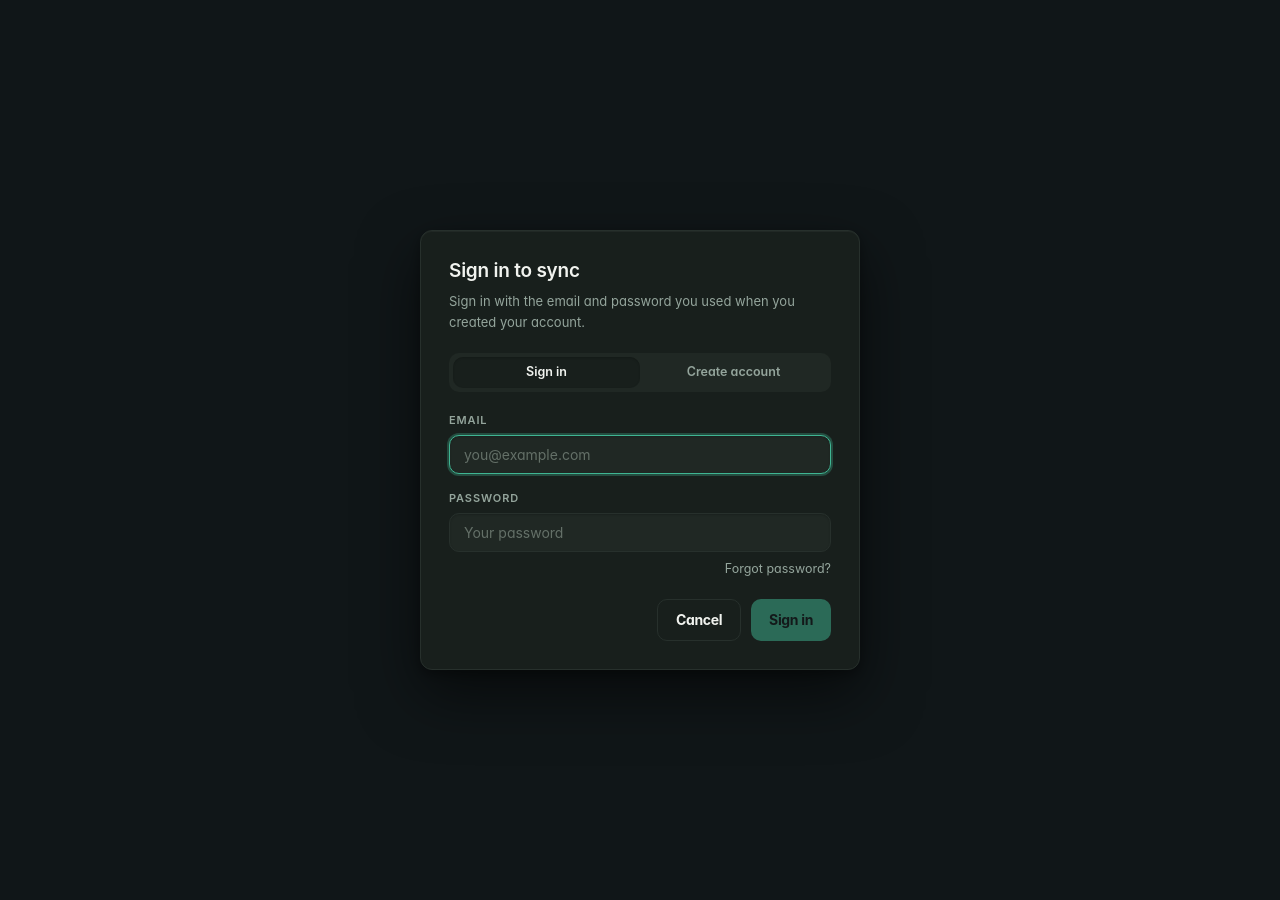
Test case: SignInDialog — client-side validation › blocks a short password with an inline error
The width and height of the screenshot is (1280, 900).
Type "a@b.co" into the field named "email" at (640, 454), box x1=449 y1=434 x2=831 y2=474
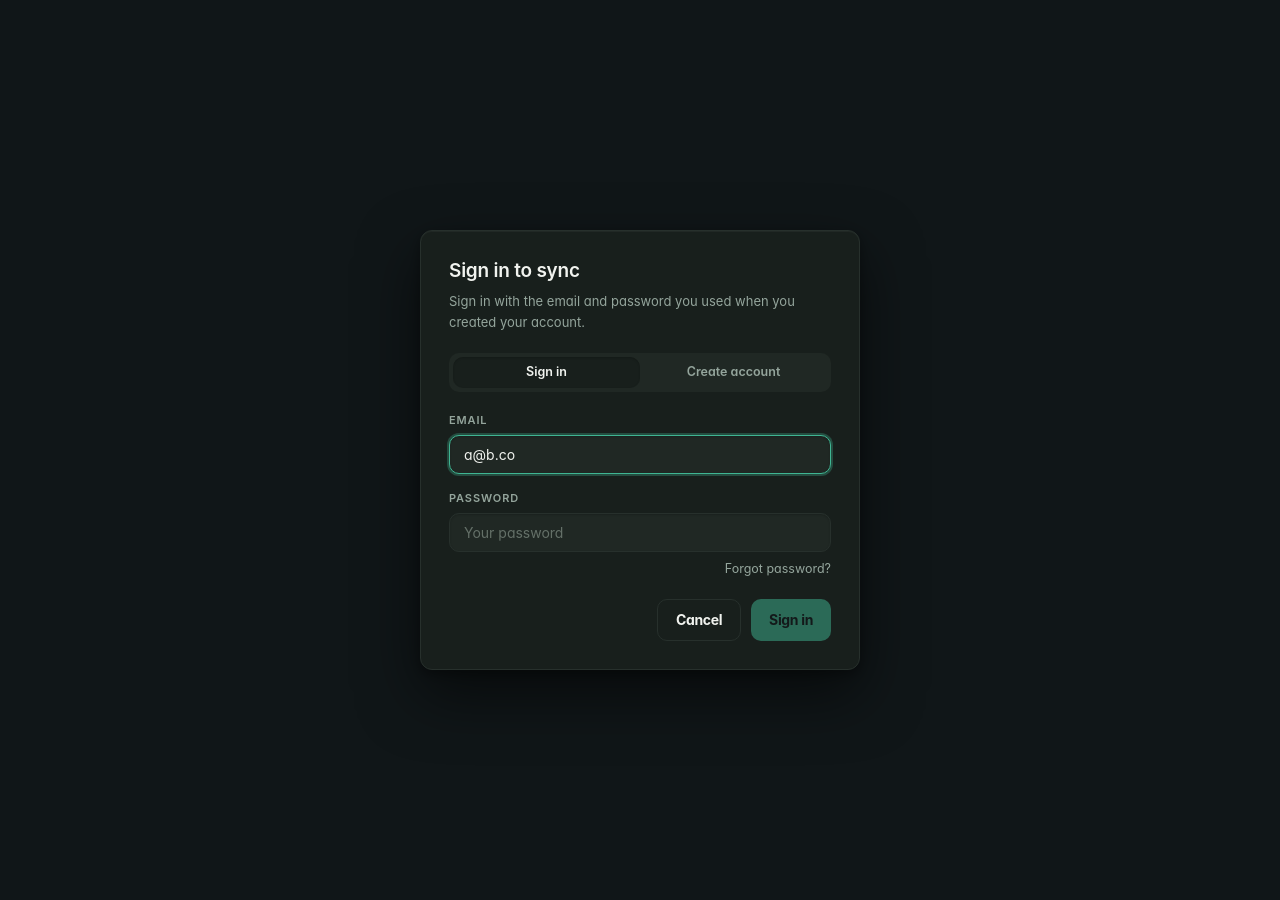
Type "short" into the password field labelled "Your password" at (640, 532), box x1=449 y1=512 x2=831 y2=552
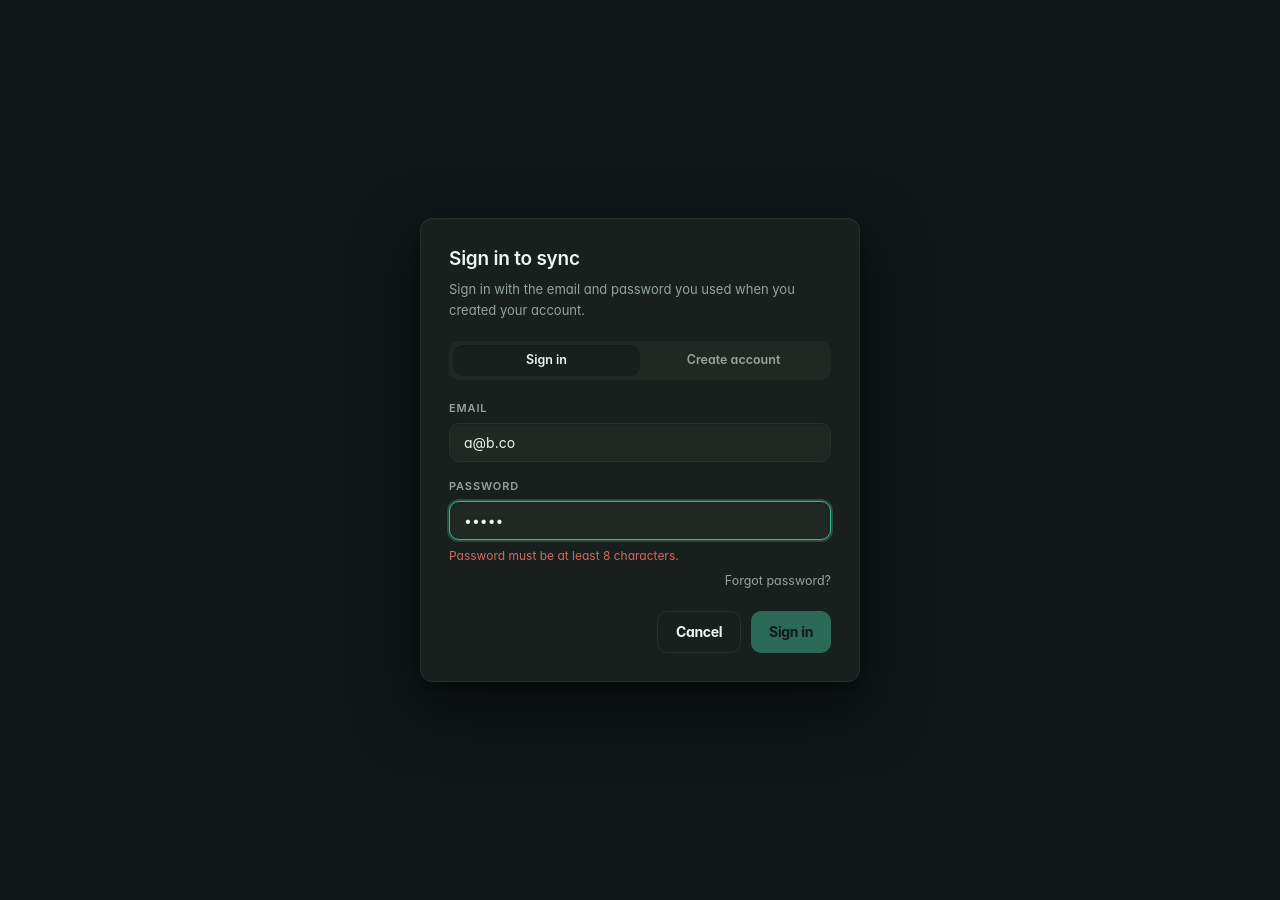
Expected: the button "Sign in" is disabled, x1=751 y1=611 x2=831 y2=653
Expected: the text "Password must be at least 8 characters." is shown, x1=449 y1=548 x2=679 y2=563
